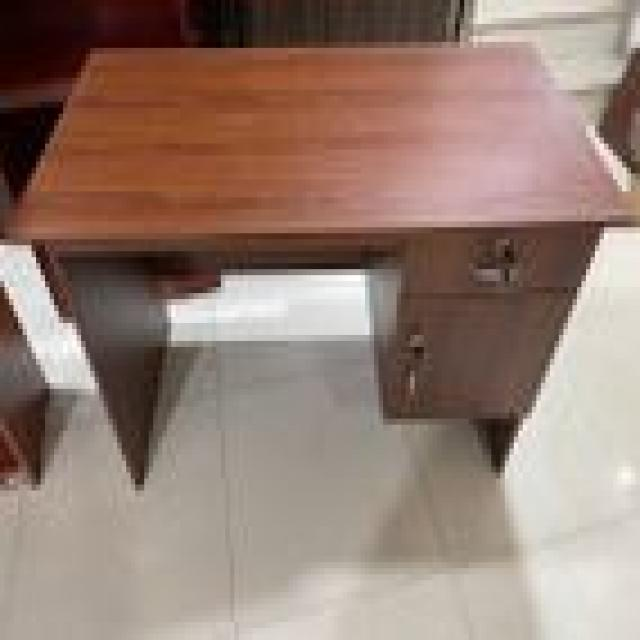others: (4, 5, 640, 502)
